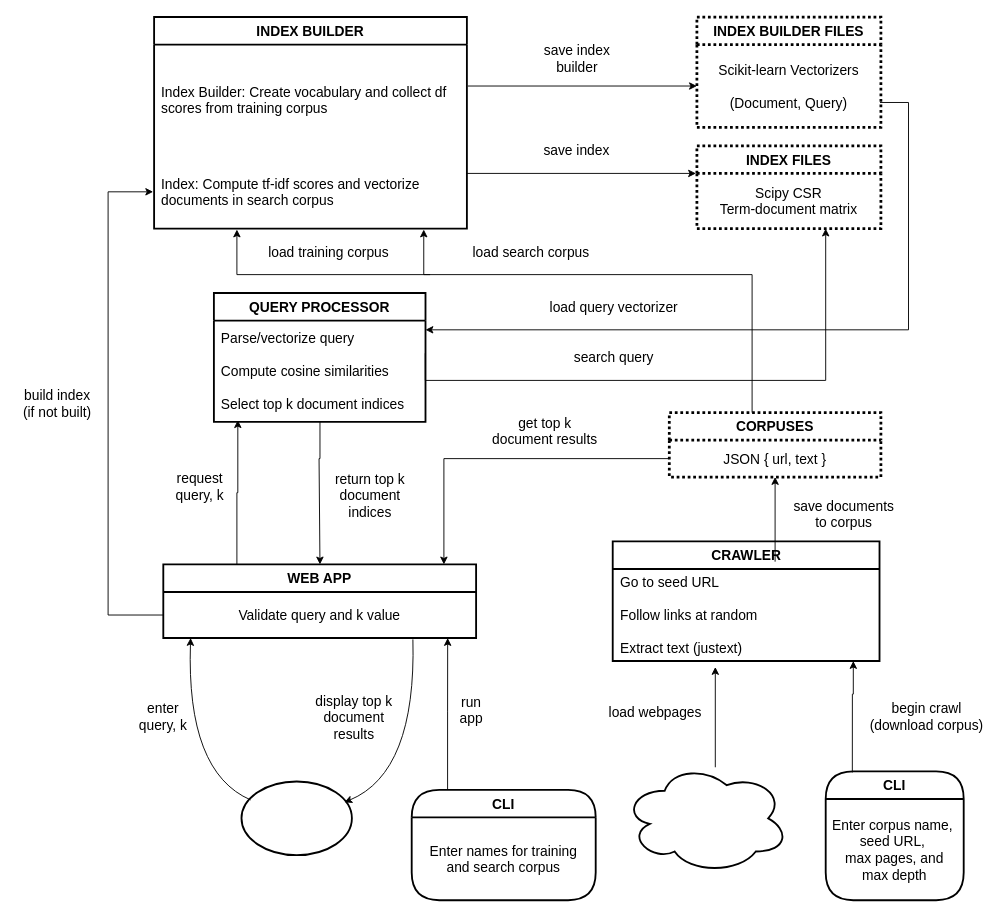
Image size: 1006x917. Some labels were removed from this diagram. The shapes that lost their labels are listed below. From the top down, each one's centre as x and y in pixels, then its label:
At point 296,818: "user".
At point 705,818: "CLOUD".
